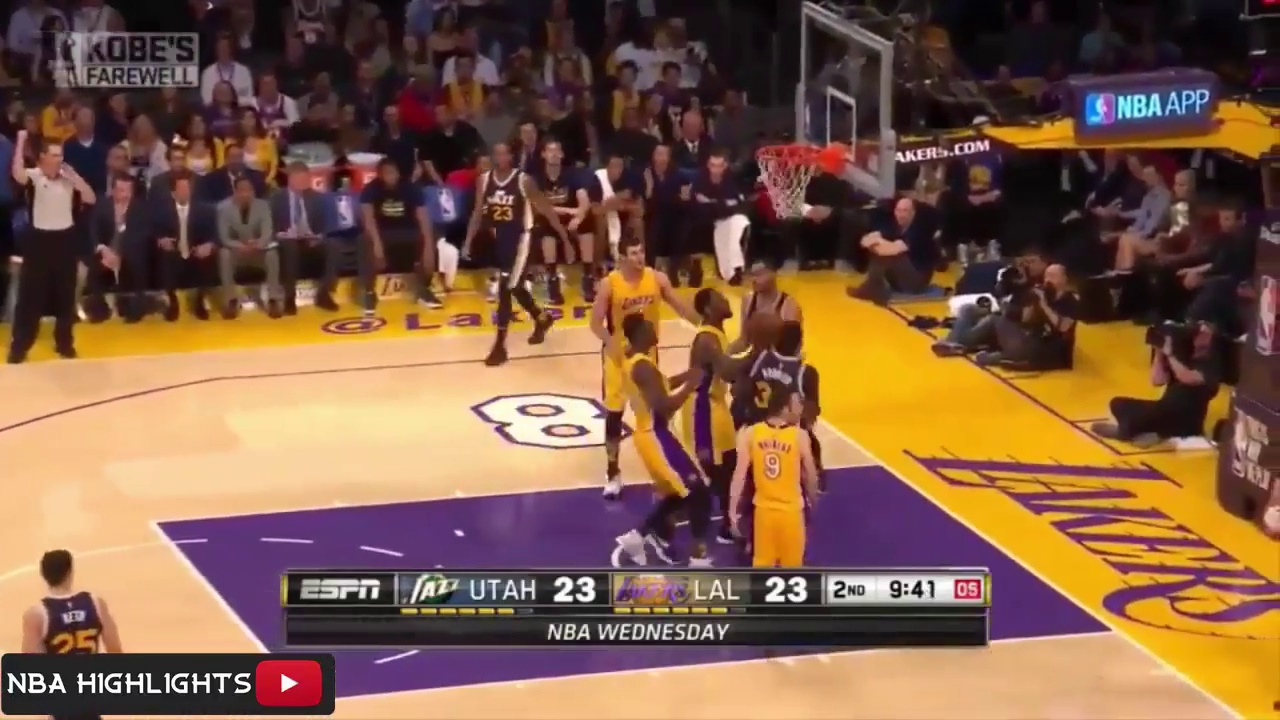jazz: (467, 147, 569, 353), (14, 538, 125, 716), (746, 328, 836, 426)
lakers: (608, 322, 704, 566), (594, 234, 673, 471), (735, 384, 818, 561), (696, 288, 742, 520)
